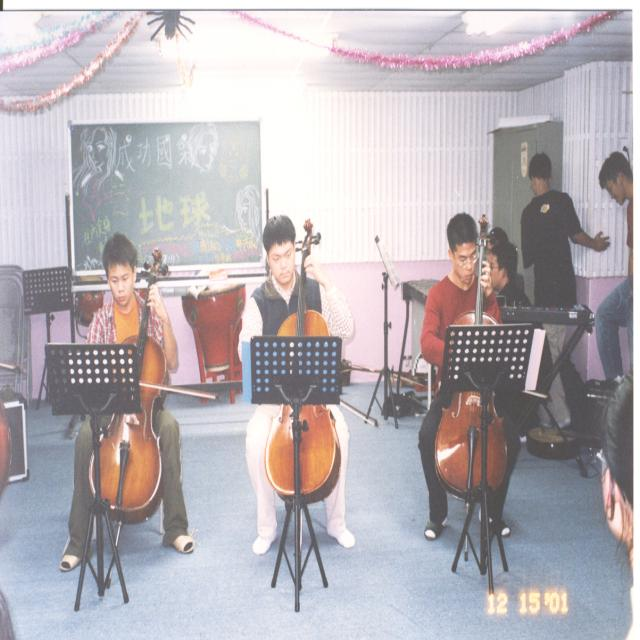cello: (263, 217, 343, 504), (434, 214, 510, 501), (88, 249, 169, 518)
